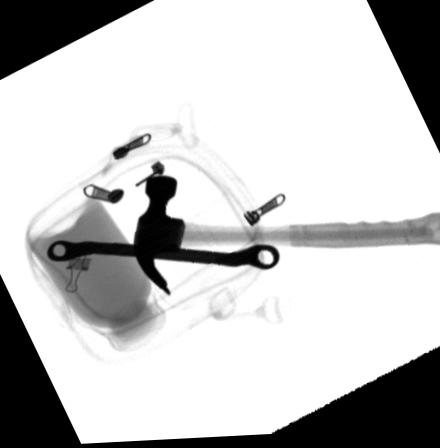Hammer: (131, 177, 440, 298)
Wrench: (45, 240, 281, 275)
